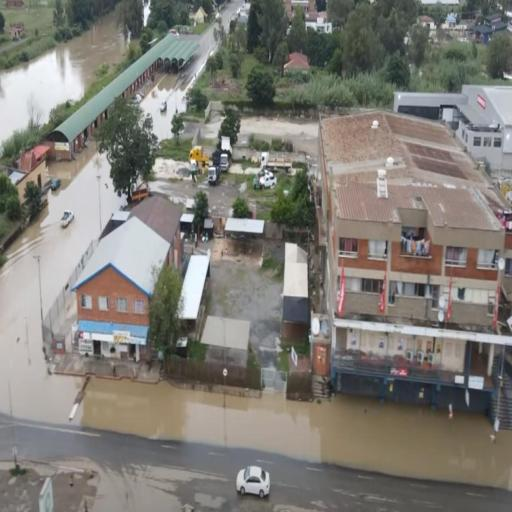flood: (73, 377, 512, 487), (0, 139, 123, 424), (0, 14, 126, 141), (24, 460, 226, 512), (141, 28, 215, 138), (237, 114, 319, 155)
house: (318, 99, 503, 417), (76, 199, 178, 356), (453, 82, 512, 168), (10, 146, 50, 203), (282, 49, 312, 74)
